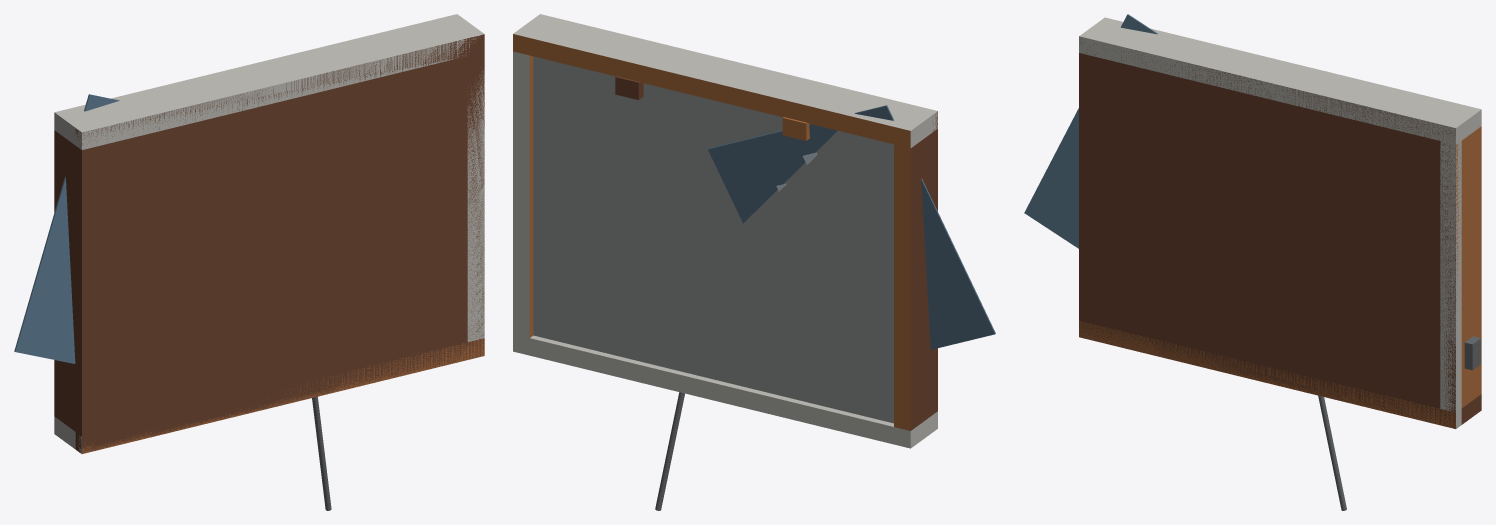
Rendered from xraypictures_v2.fbx.
3 renders of one model, left to right at view 1: azimuth 30°, elevation 25°; view 2: azimuth 150°, elevation 25°; view 3: azimuth 330°, elevation 25°, orthographic. The views are drawn at different scales.
Parts seen in each view (by area): view 1: 08_XrayViewBox_Damaged_Mesh; view 2: 08_XrayViewBox_Damaged_Mesh; view 3: 08_XrayViewBox_Damaged_Mesh.
Part boxes in pixels (x1,y1,x2,y2): 08_XrayViewBox_Damaged_Mesh: [14, 14, 484, 510]; 08_XrayViewBox_Damaged_Mesh: [513, 14, 995, 510]; 08_XrayViewBox_Damaged_Mesh: [1024, 14, 1481, 510].
Bounding box in the file's own units: 89.45 × 84.73 × 9.7.
